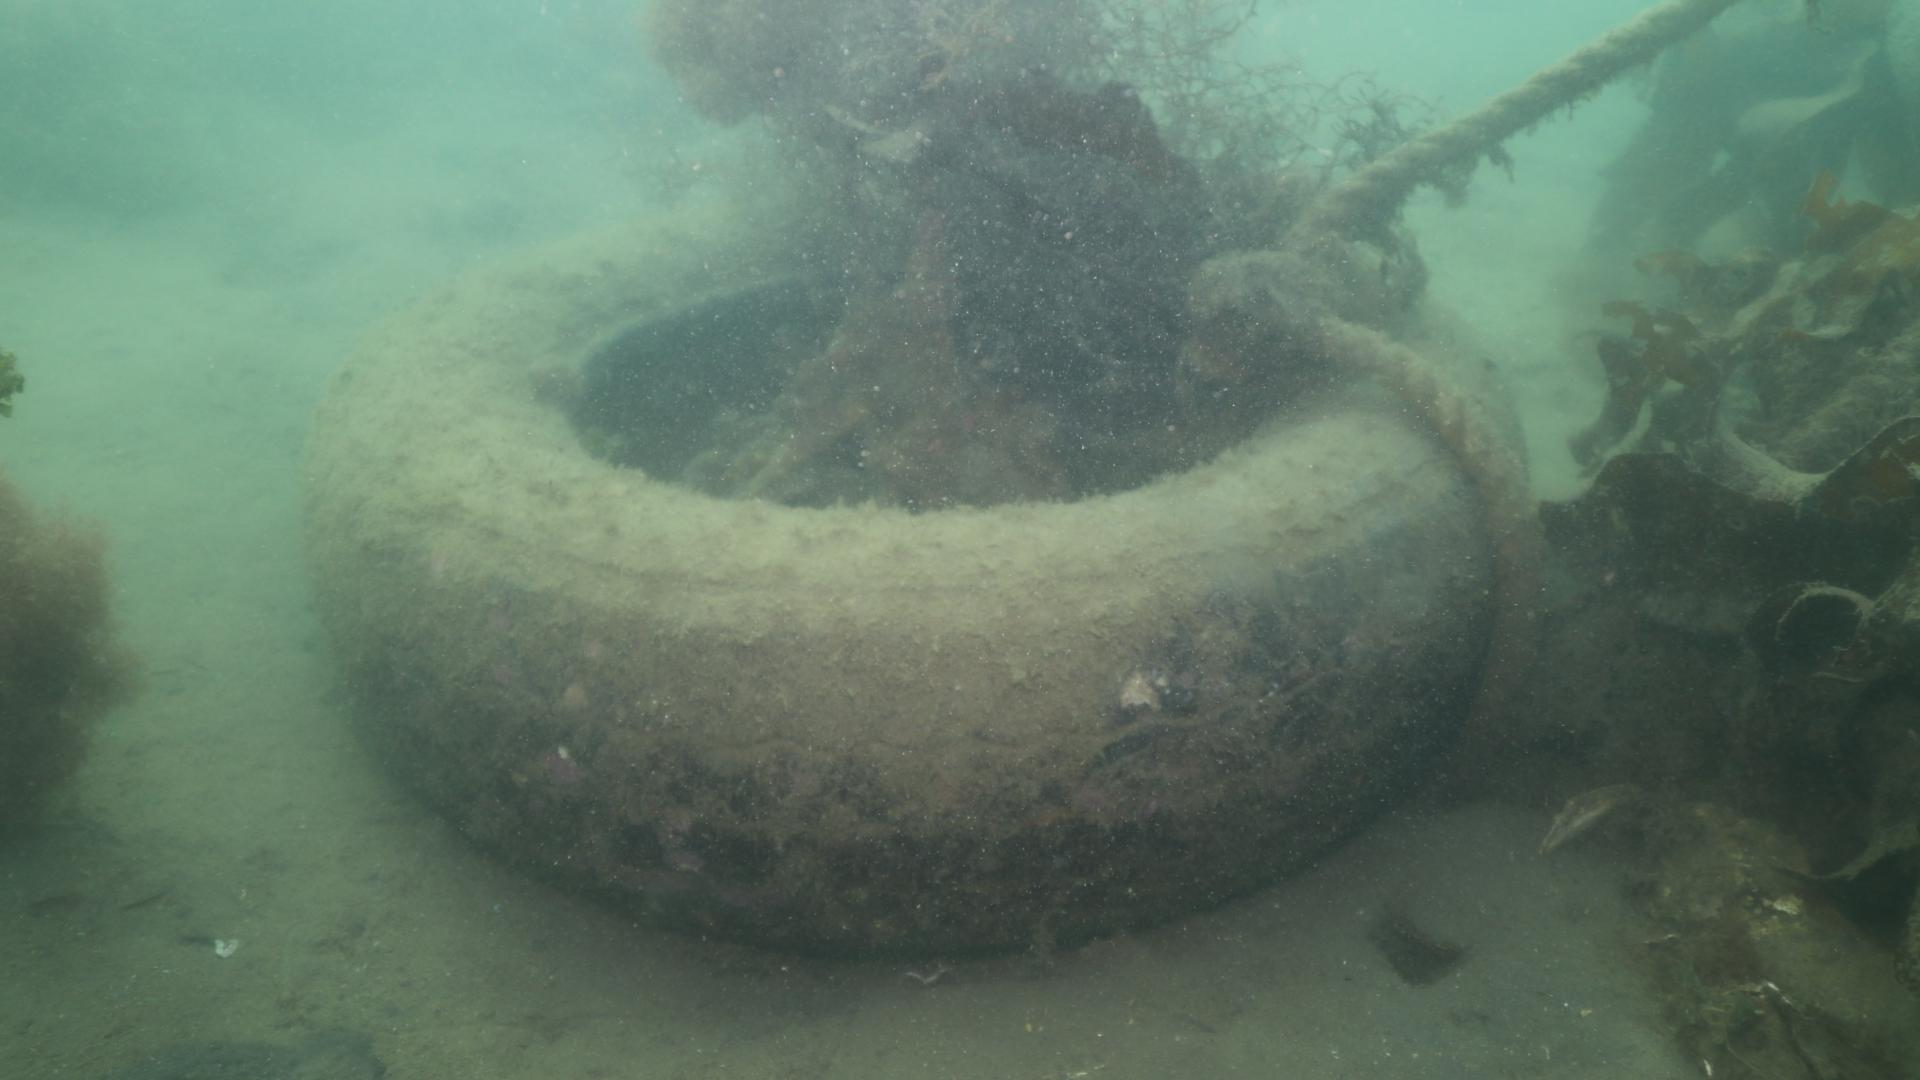bundle of ropes: (1180, 0, 1738, 800)
tire: (297, 200, 1534, 964)
